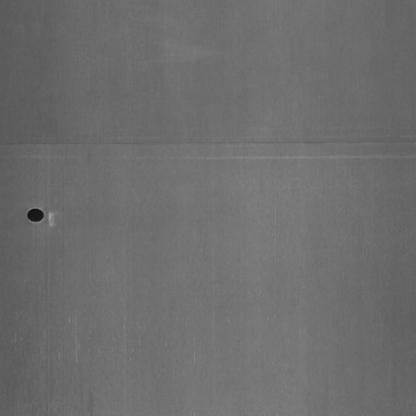punching_hole: (22, 197, 46, 230)
welding_line: (4, 131, 416, 153)
